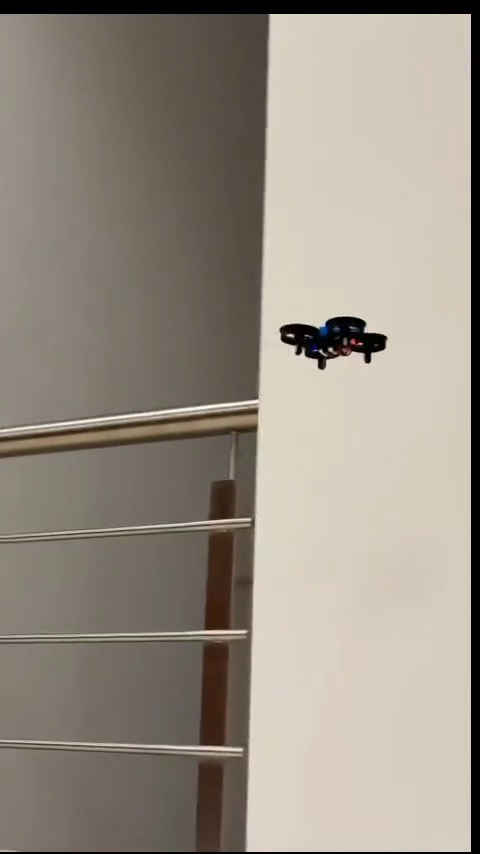drone: (286, 314, 385, 370)
